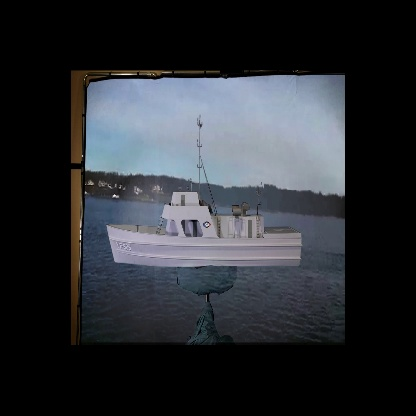YP689: (99, 105, 308, 269)
